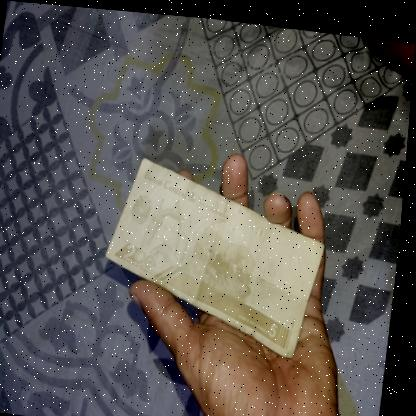five-back-vef: (102, 152, 335, 354)
